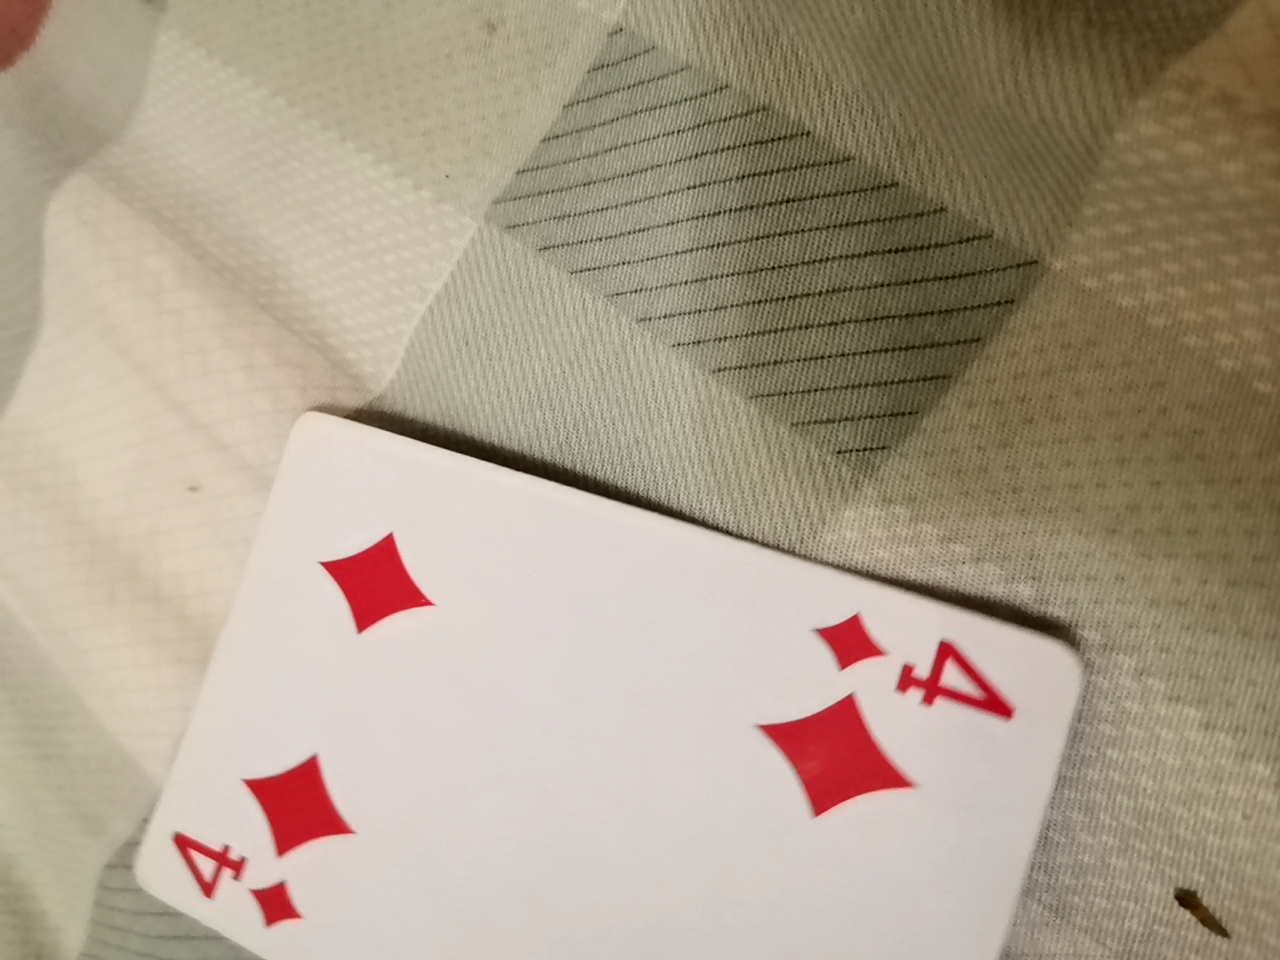fk 4: (111, 375, 1071, 941)
